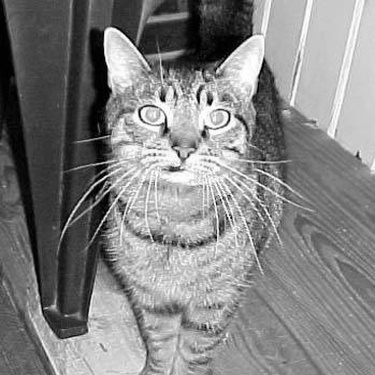cat: (94, 25, 287, 367)
